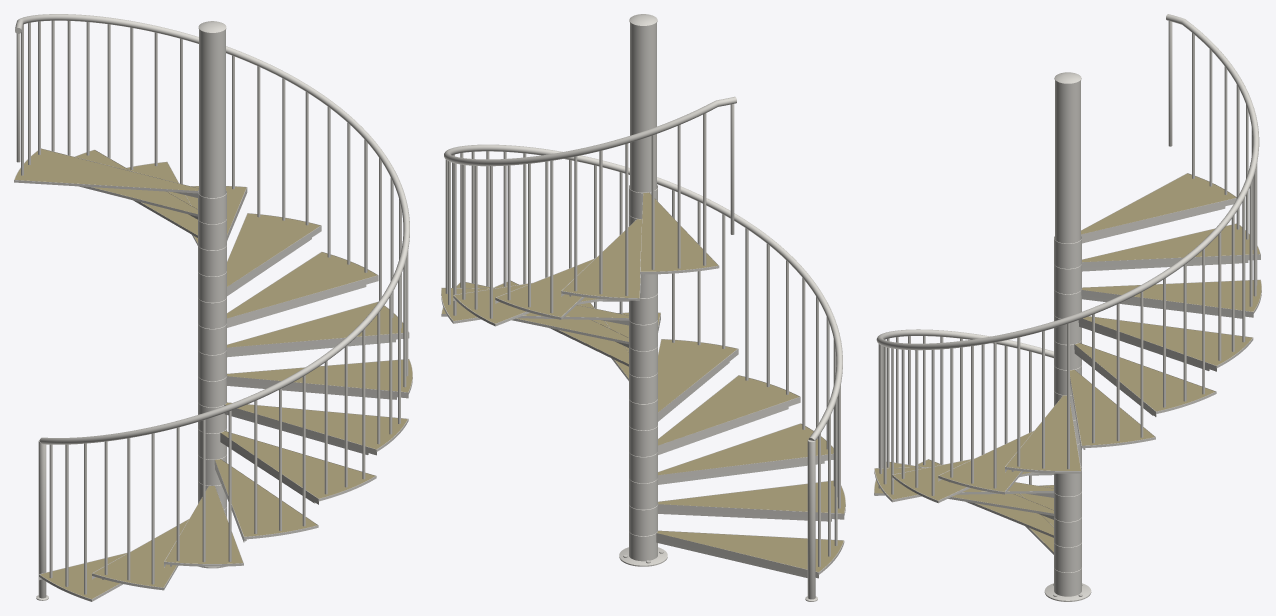
The model's file is Kit_SpiralStair_Steel.fbx.
The picture shows the model from 3 angles, left to right: view 1: azimuth 30°, elevation 25°; view 2: azimuth 150°, elevation 25°; view 3: azimuth 270°, elevation 25°; orthographic projection. The views are drawn at different scales.
Visible parts, largest first — view 1: Kit_SpiralStair_Steel_LOD0; view 2: Kit_SpiralStair_Steel_LOD0; view 3: Kit_SpiralStair_Steel_LOD0.
Boxes of the visible parts, left/top/right/bottom form: Kit_SpiralStair_Steel_LOD0: left=14, top=14, right=412, bottom=601; Kit_SpiralStair_Steel_LOD0: left=441, top=14, right=845, bottom=601; Kit_SpiralStair_Steel_LOD0: left=874, top=14, right=1261, bottom=601.
Size of what is drawn, in the model's own units: 2.5 by 3.67 by 2.5.
